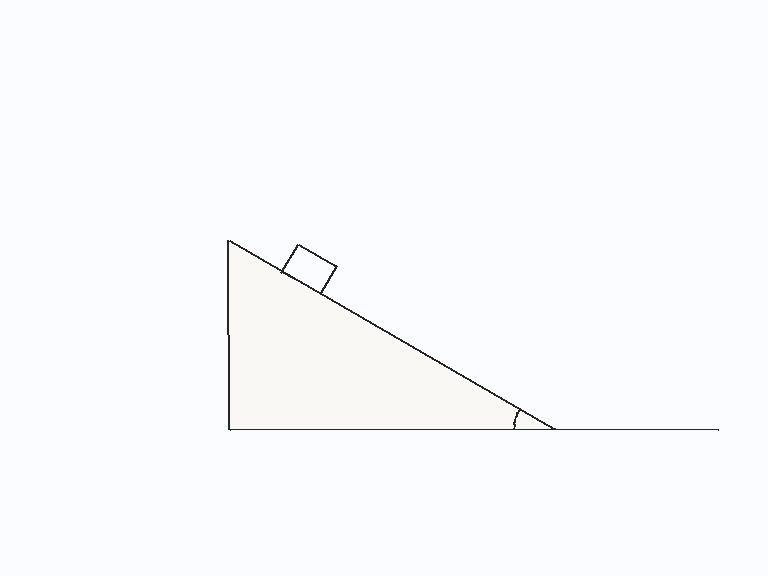block: (280, 242, 338, 296)
ramp: (227, 239, 556, 431)
